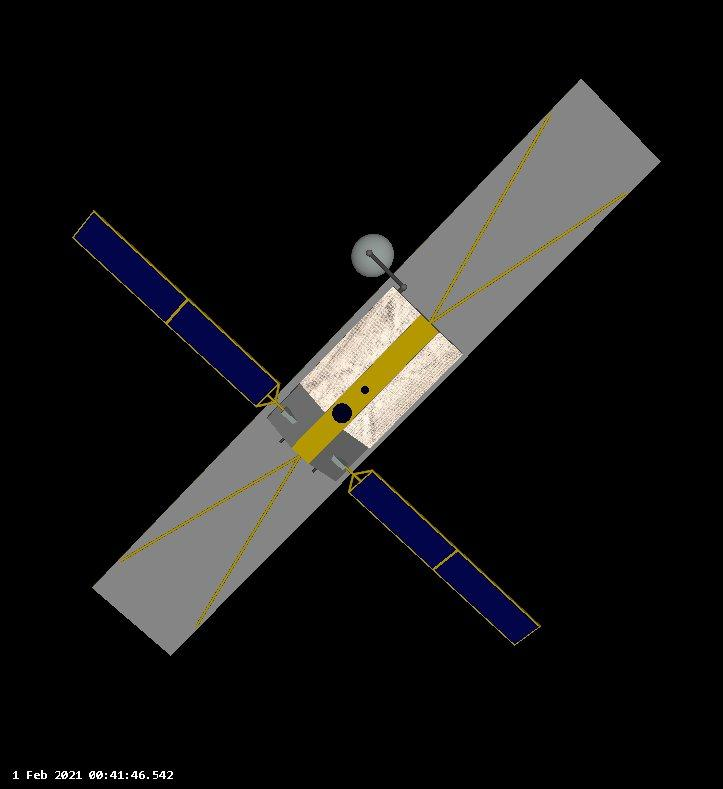antenna: (349, 232, 396, 279)
body: (264, 284, 466, 484)
solar: (400, 80, 663, 357), (90, 418, 336, 658), (68, 208, 282, 409), (346, 468, 543, 648)
